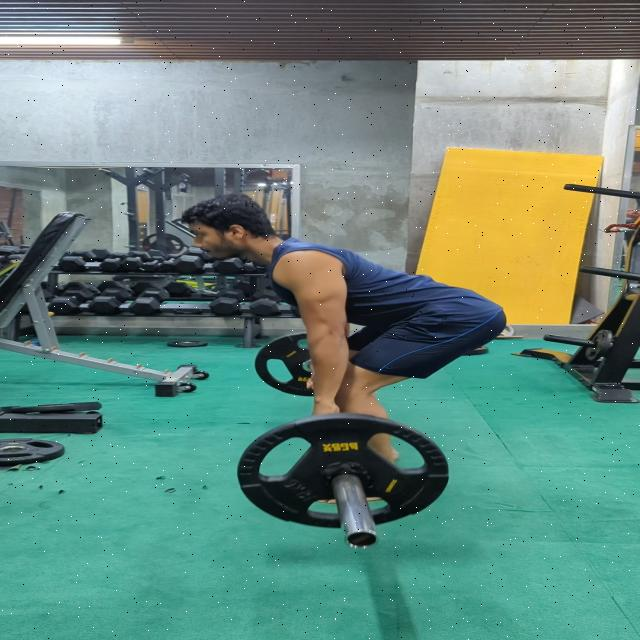Normal_Deadlifts: (170, 191, 512, 507)
